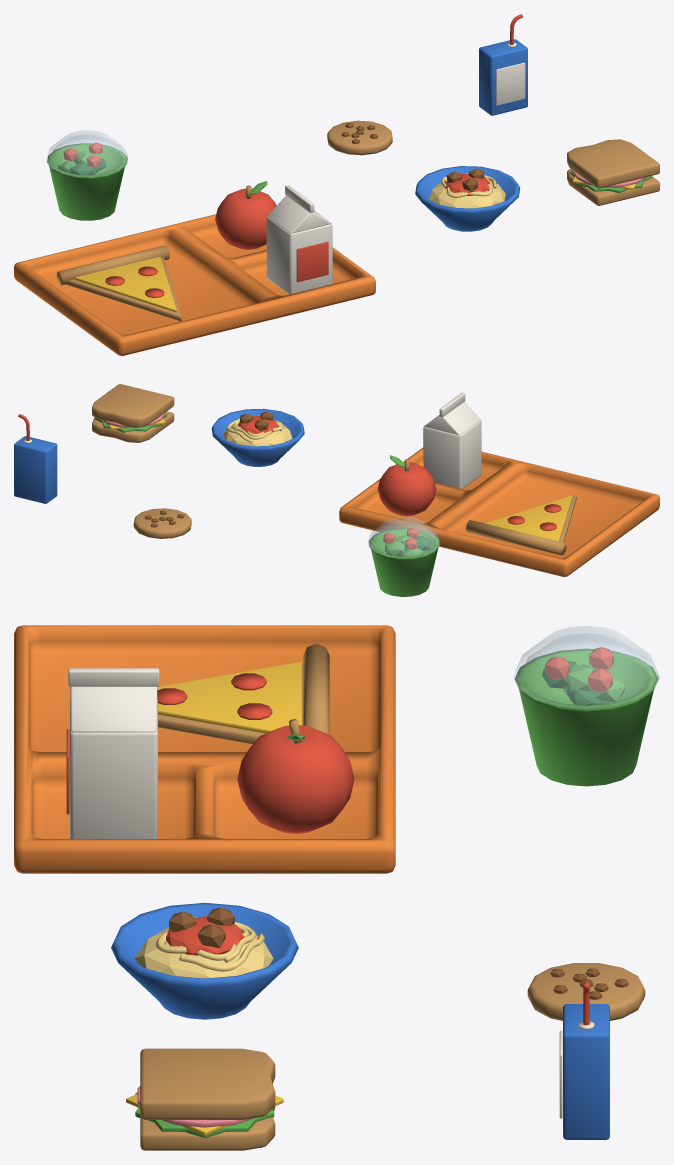
Rendered from school-cafeteria-food-set.glb.
3 renders of one model, top to bottom at view 1: azimuth 30°, elevation 25°; view 2: azimuth 150°, elevation 25°; view 3: azimuth 270°, elevation 25°, orthographic. The views are drawn at different scales.
Parts seen in each view (by area): view 1: LunchTray, Pizza, Sandwich, MilkCarton, SaladCup, JuiceBox, SpaghettiBowl, SaladCup_Lid, Apple, Spaghetti, Cookie, MilkCarton_Lid (+1 smaller); view 2: LunchTray, Sandwich, Pizza, MilkCarton, SaladCup, JuiceBox, Apple, SpaghettiBowl, SaladCup_Lid, Spaghetti, Cookie, MilkCarton_Lid (+1 smaller); view 3: LunchTray, Sandwich, SaladCup, Pizza, Apple, MilkCarton, SaladCup_Lid, SpaghettiBowl, Spaghetti, JuiceBox, MilkCarton_Lid, Cookie (+1 smaller).
Part boxes in pixels (left/top/right/bottom): LunchTray: left=14, top=214, right=375, bottom=355; Pizza: left=56, top=245, right=181, bottom=321; Sandwich: left=567, top=139, right=659, bottom=205; MilkCarton: left=266, top=216, right=332, bottom=294; SaladCup: left=47, top=143, right=127, bottom=220; JuiceBox: left=479, top=39, right=527, bottom=115; SpaghettiBowl: left=415, top=166, right=520, bottom=231; SaladCup_Lid: left=46, top=130, right=127, bottom=176; Apple: left=215, top=181, right=276, bottom=249; Spaghetti: left=429, top=168, right=505, bottom=208; Cookie: left=327, top=120, right=392, bottom=155; MilkCarton_Lid: left=267, top=185, right=331, bottom=233; LunchTray: left=339, top=447, right=659, bottom=576; Sandwich: left=92, top=384, right=174, bottom=442; Pizza: left=466, top=495, right=576, bottom=555; MilkCarton: left=423, top=420, right=481, bottom=489; SaladCup: left=368, top=528, right=439, bottom=596; JuiceBox: left=14, top=436, right=57, bottom=503; Apple: left=377, top=455, right=436, bottom=516; SpaghettiBowl: left=211, top=408, right=304, bottom=466; SaladCup_Lid: left=368, top=517, right=440, bottom=557; Spaghetti: left=223, top=411, right=292, bottom=446; Cookie: left=133, top=508, right=191, bottom=538; MilkCarton_Lid: left=424, top=392, right=480, bottom=435; LunchTray: left=14, top=625, right=395, bottom=873; Sandwich: left=126, top=1048, right=283, bottom=1150; SaladCup: left=515, top=649, right=657, bottom=786; Pizza: left=157, top=643, right=329, bottom=744; Apple: left=237, top=719, right=354, bottom=833; MilkCarton: left=66, top=700, right=157, bottom=838; SaladCup_Lid: left=513, top=626, right=659, bottom=708; SpaghettiBowl: left=111, top=902, right=298, bottom=1019; Spaghetti: left=134, top=907, right=273, bottom=978; JuiceBox: left=559, top=1004, right=609, bottom=1139; MilkCarton_Lid: left=68, top=668, right=159, bottom=732; Cookie: left=527, top=963, right=645, bottom=1020.
Bounding box in the file's own units: 4.07 × 0.617 × 2.2.
